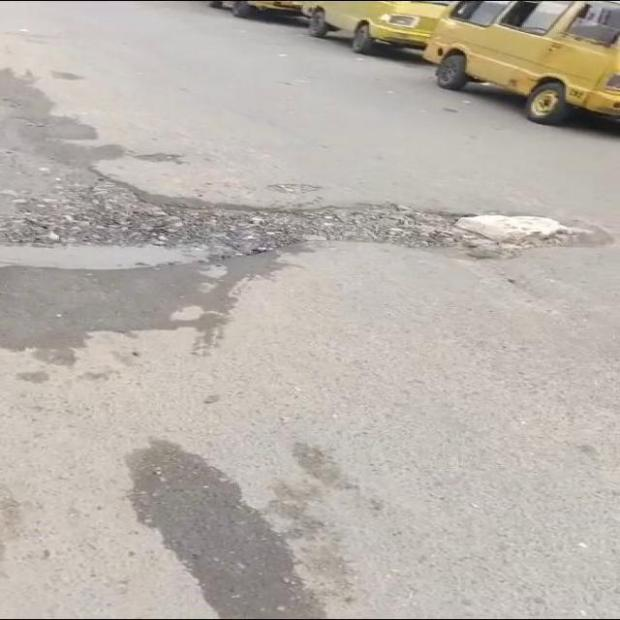lubang: (0, 177, 610, 267)
